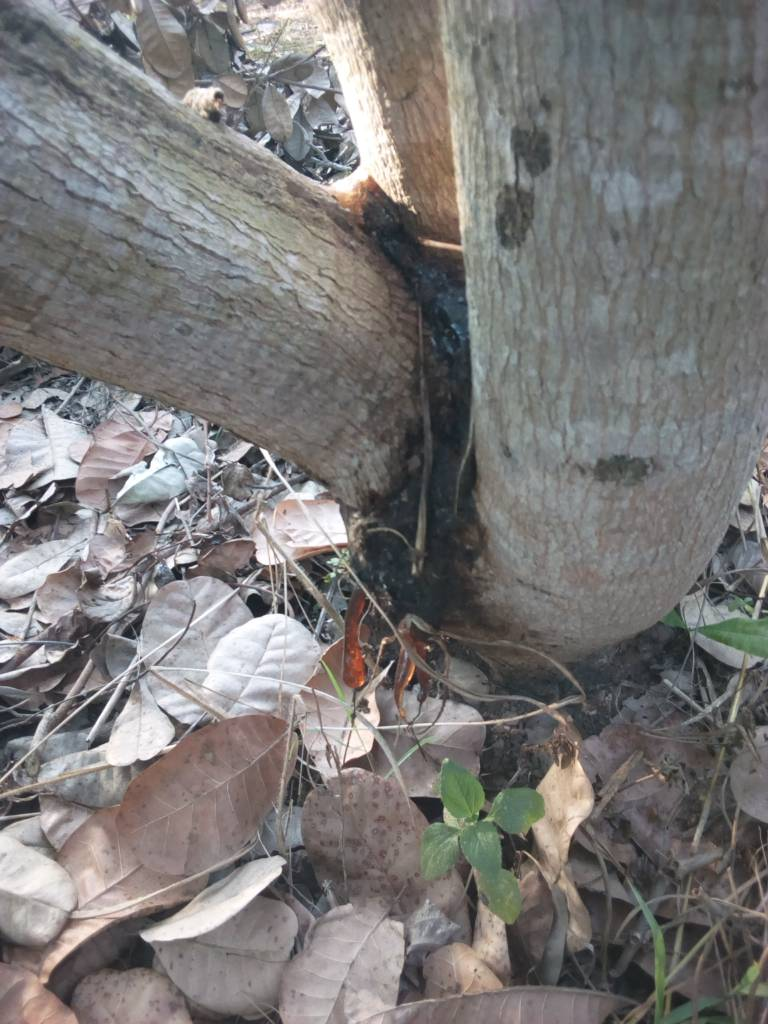Gommose: (386, 238, 468, 613)
